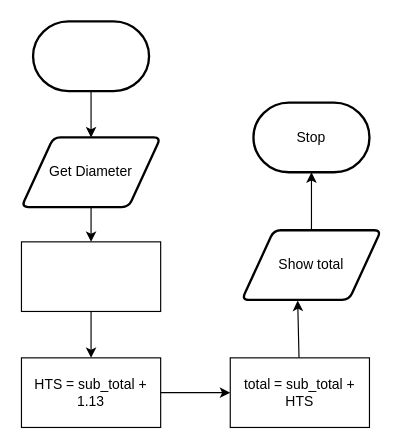
Some shapes in this 401 by 448 pixel diagram are drawn without their labels. The box of each missing label's shape, as (x1, y1, x2, y2) in pixels:
Start: (31, 20, 150, 92)
sub_total =0.75 + 1.00 +(0.5* diameter): (20, 241, 161, 311)
